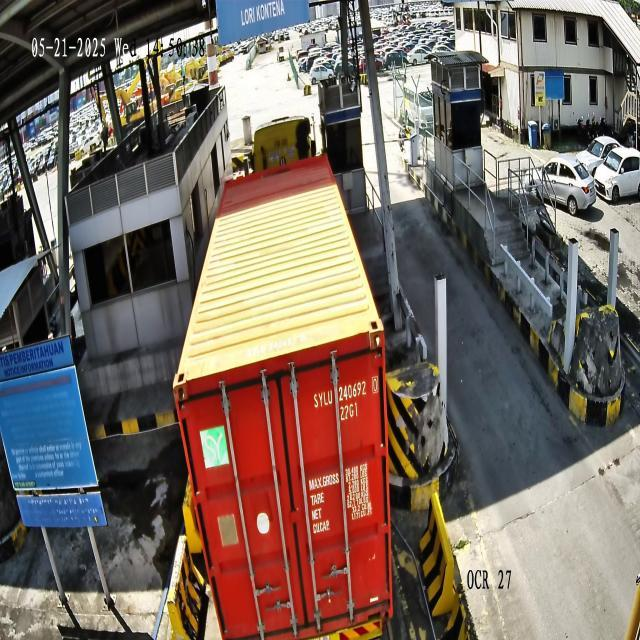ISO: (338, 398, 360, 424)
container_number: (312, 370, 380, 414)
